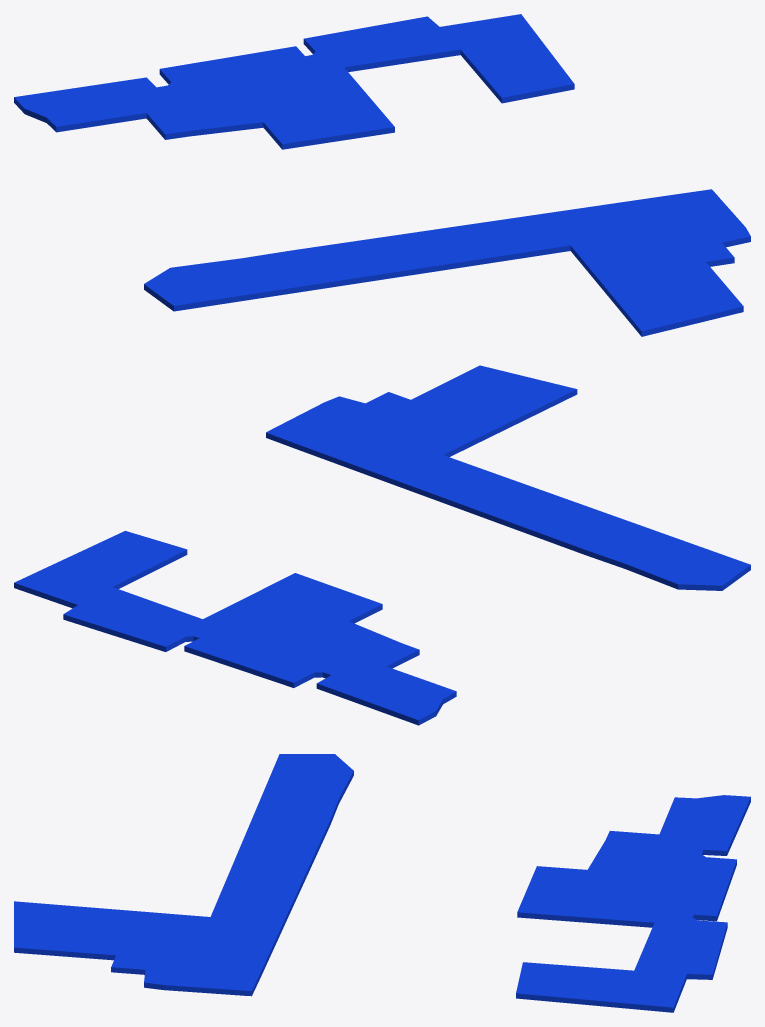
Rendered from Parkingarea.dae.
3 renders of one model, top to bottom at view 1: azimuth 30°, elevation 25°; view 2: azimuth 150°, elevation 25°; view 3: azimuth 270°, elevation 25°, orthographic. The views are drawn at different scales.
Parts seen in each view (by area): view 1: Object (×2); view 2: Object (×2); view 3: Object (×2).
Boxes of the visible parts, <box> form: Object (×2): <box>14,14,750,336</box>; Object (×2): <box>14,365,750,725</box>; Object (×2): <box>14,754,750,1012</box>.
Size of the model in its own units: 63.16 by 0.6 by 77.59.
